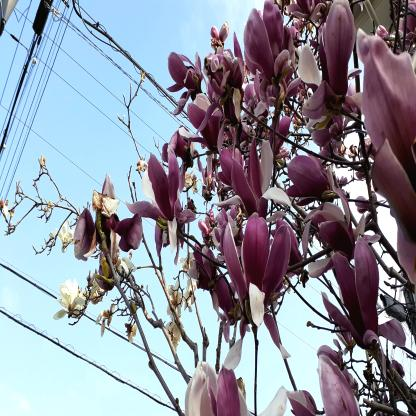Mokuren: (0, 1, 416, 416)
